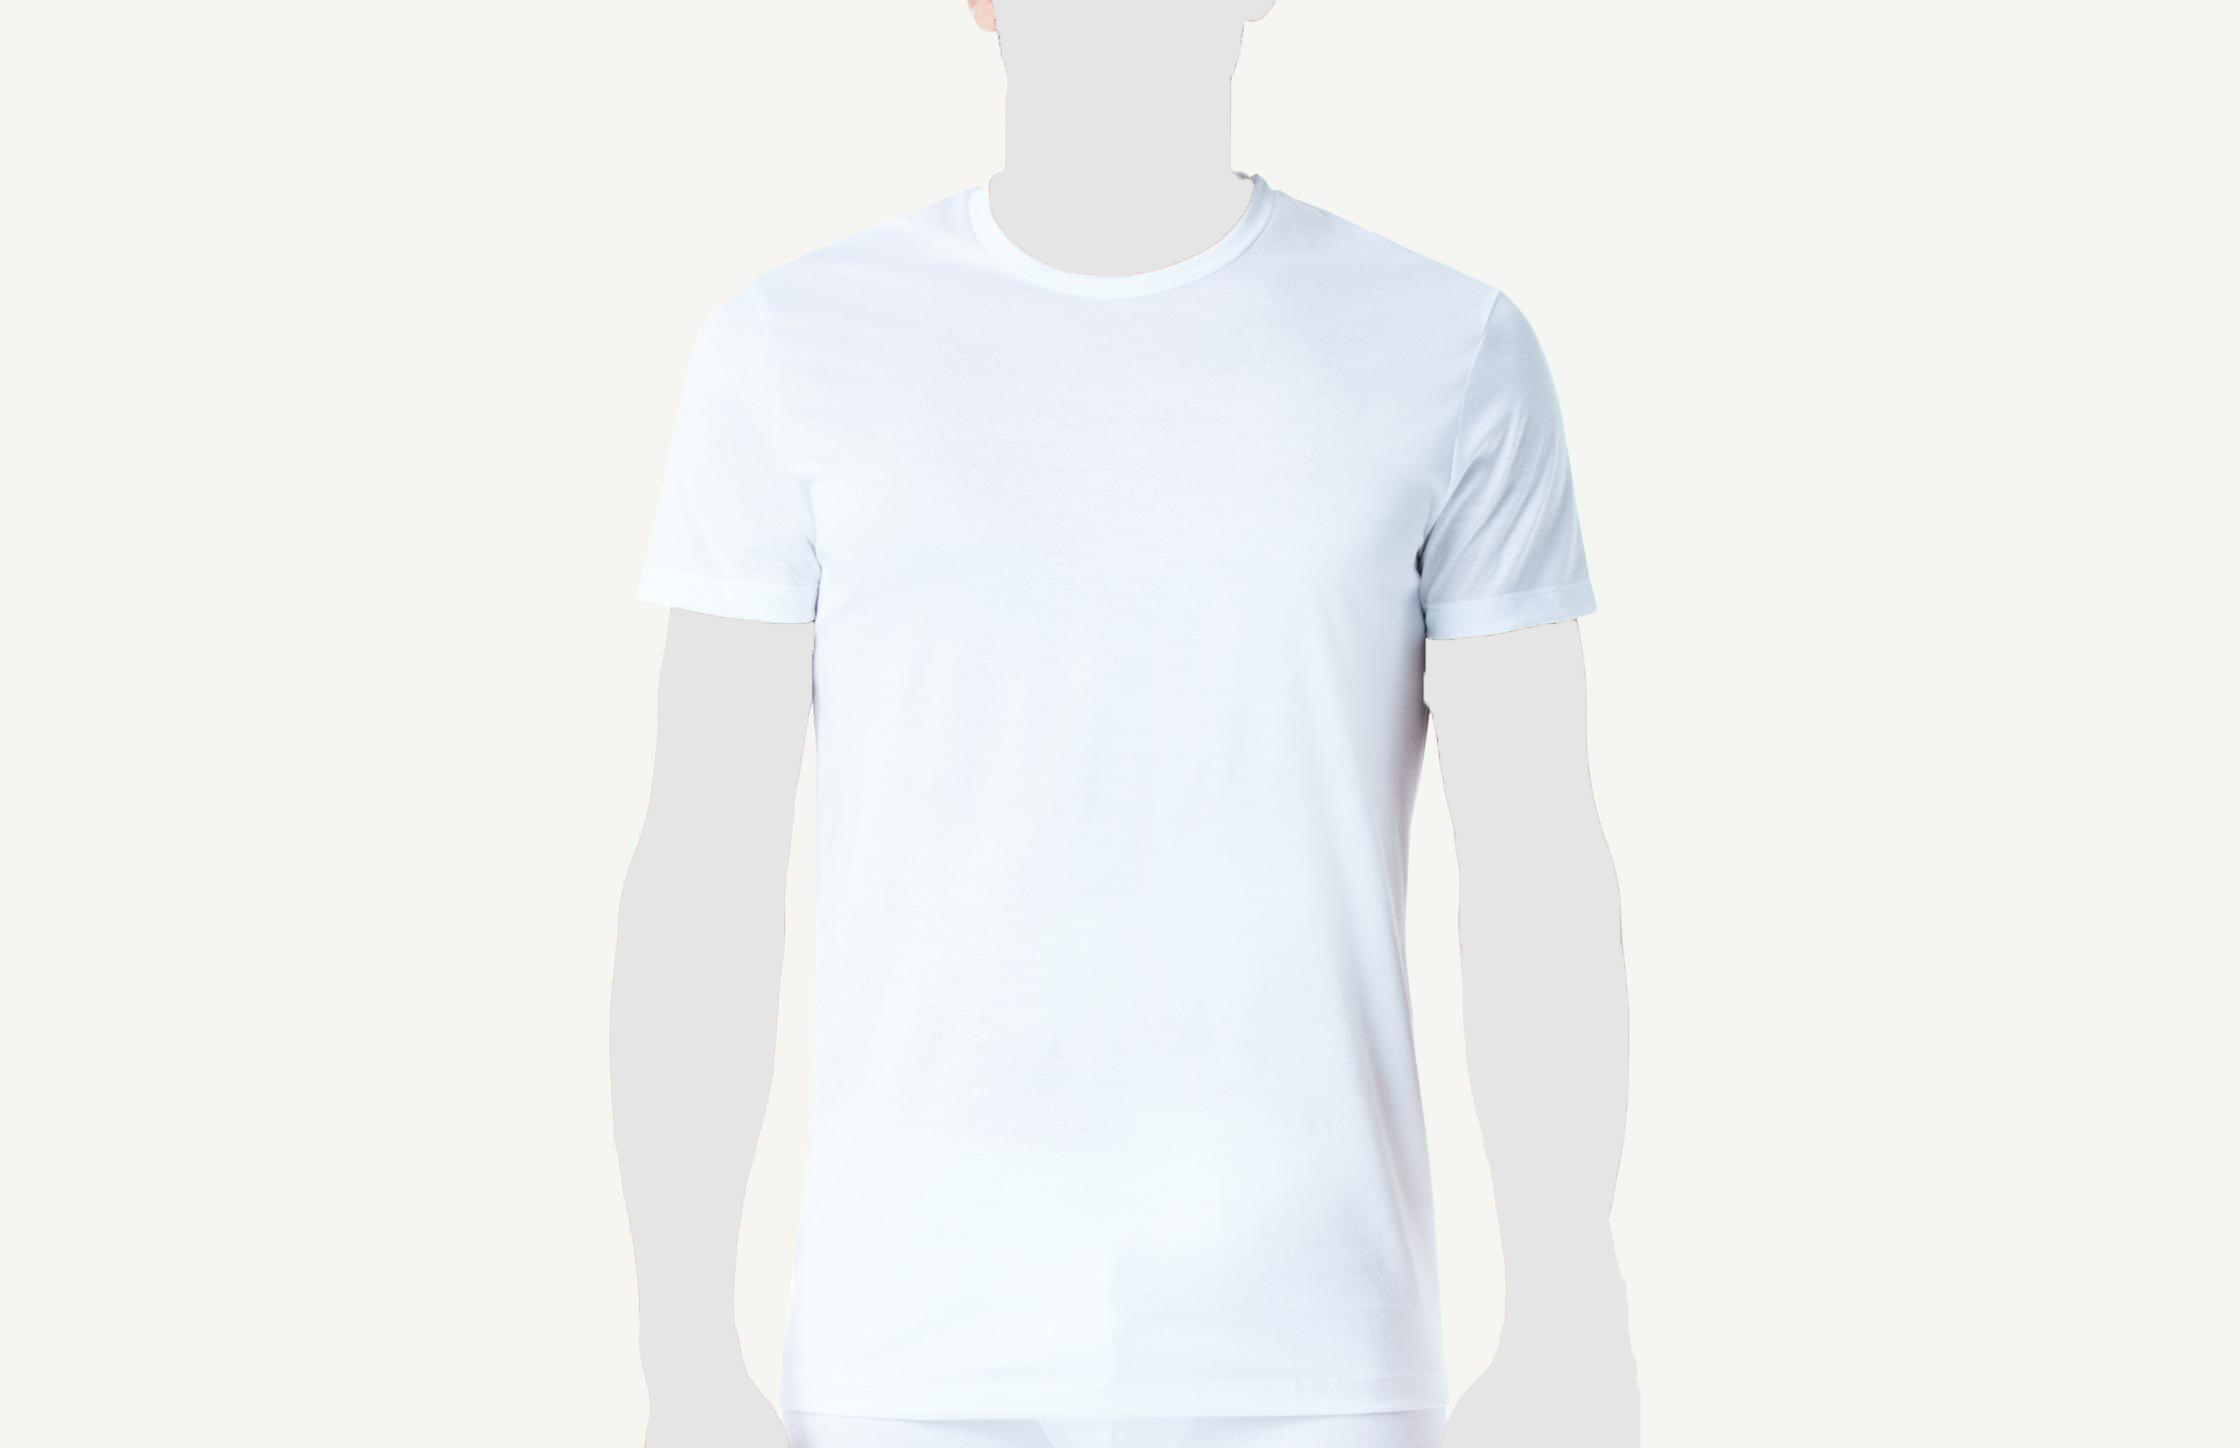teeshirt: (633, 167, 1605, 1437)
